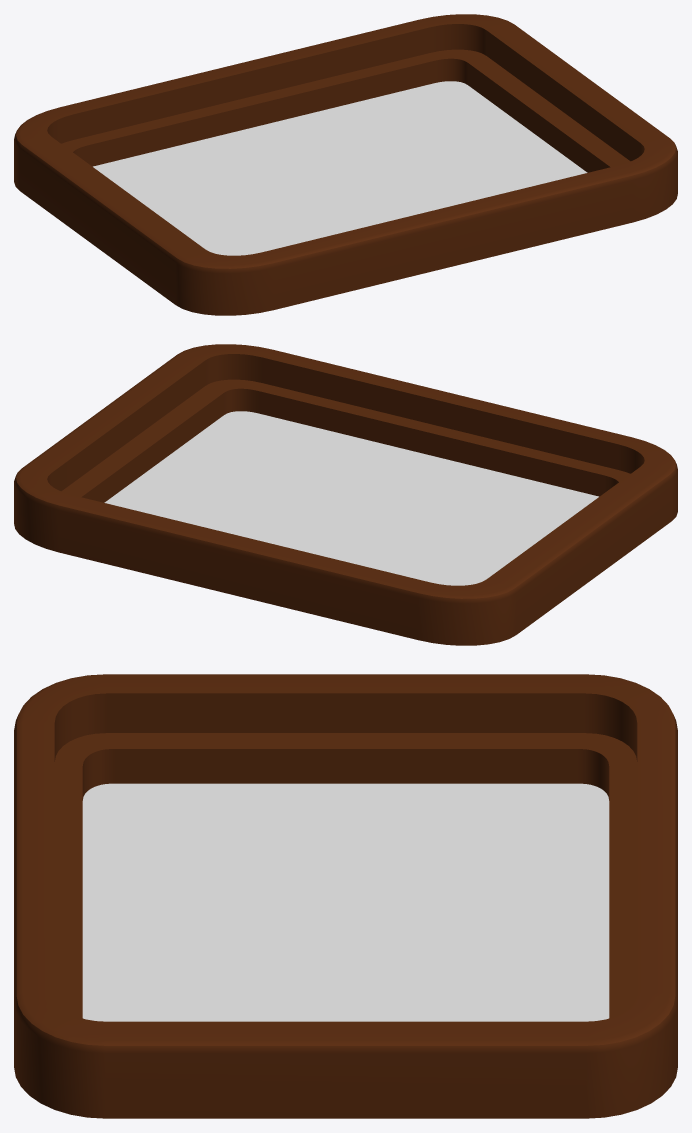
Rendered from Game Board (2).fbx.
The picture shows the model from 3 angles, top to bottom: view 1: azimuth 30°, elevation 25°; view 2: azimuth 150°, elevation 25°; view 3: azimuth 270°, elevation 25°; orthographic projection. The views are drawn at different scales.
Visible parts, largest first — view 1: Game Board (2); view 2: Game Board (2); view 3: Game Board (2).
Part boxes in pixels (x1,y1,x2,y2): Game Board (2): (14, 14, 677, 315); Game Board (2): (14, 344, 677, 645); Game Board (2): (14, 674, 677, 1118).
Bounding box in the file's own units: 108 × 9.96 × 80.69.
